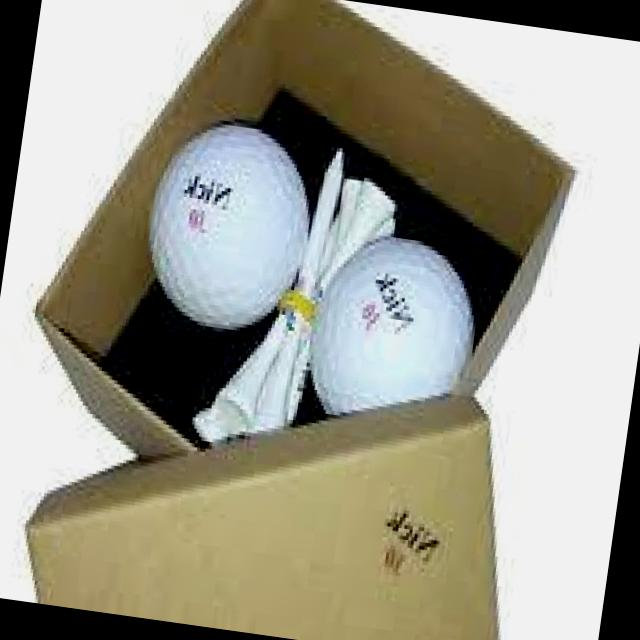ball: (121, 110, 326, 348)
